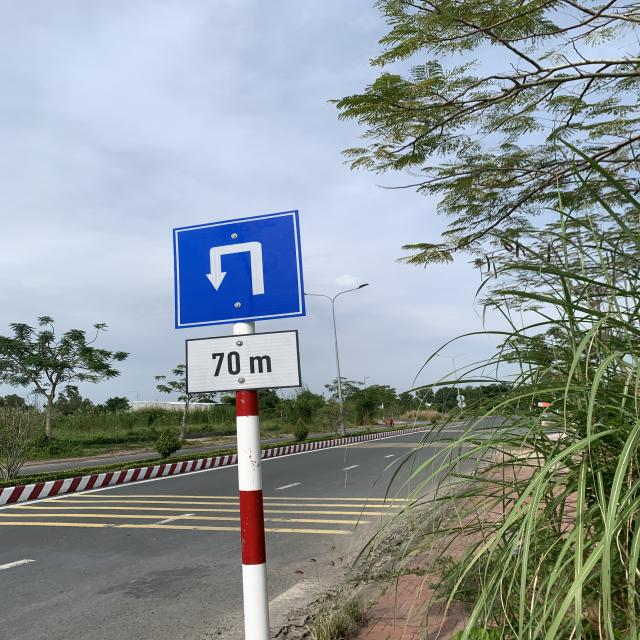Den_Giao_Thong: (174, 207, 305, 329)
